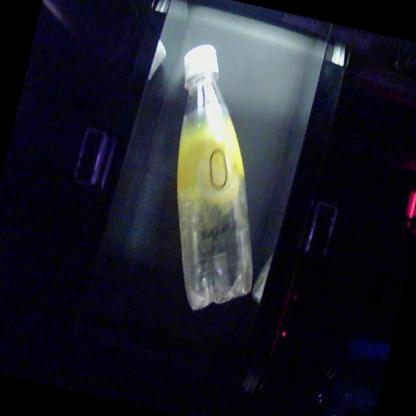Plastic Bottle: (177, 44, 253, 310)
